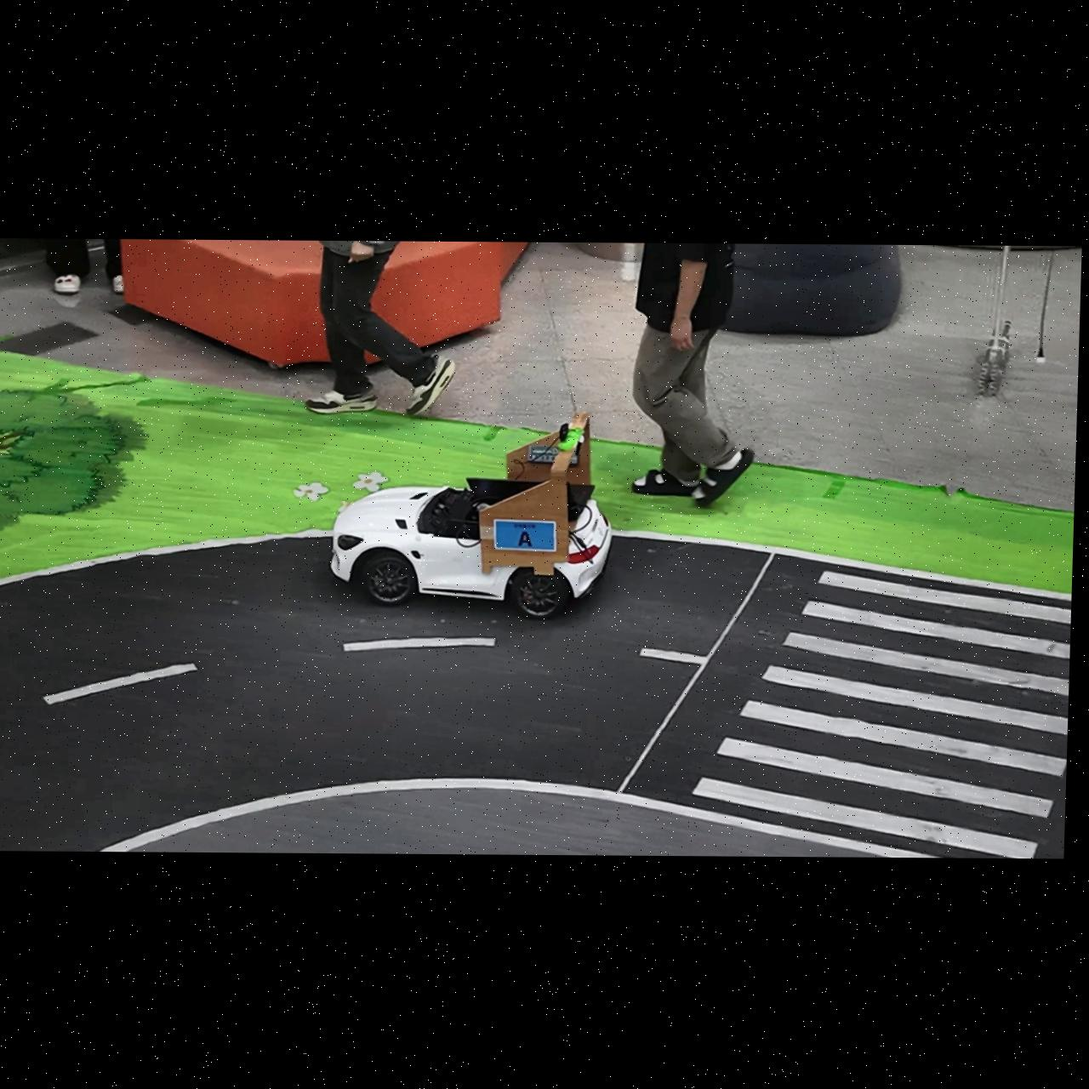broken_line: (43, 663, 198, 705), (344, 638, 496, 651), (639, 648, 706, 664)
crosswalk: (693, 572, 1071, 858)
